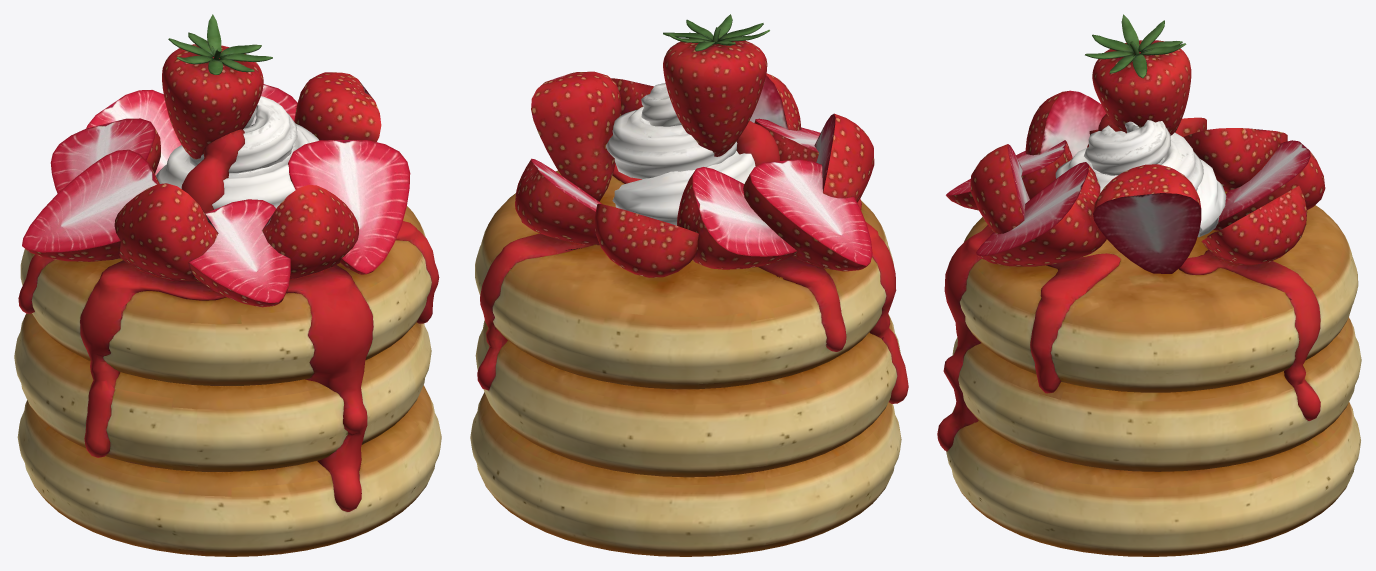
The model's file is pancake--strawberry-fresh.glb.
3 renders of one model, left to right at view 1: azimuth 30°, elevation 25°; view 2: azimuth 150°, elevation 25°; view 3: azimuth 270°, elevation 25°, orthographic. The views are drawn at different scales.
Parts seen in each view (by area): view 1: pancake_strawberry-fresh; view 2: pancake_strawberry-fresh; view 3: pancake_strawberry-fresh.
Boxes of the visible parts, x1,y1,x2,y2 form: pancake_strawberry-fresh: (14, 14, 441, 556); pancake_strawberry-fresh: (470, 14, 908, 556); pancake_strawberry-fresh: (937, 14, 1361, 556).
Size of the model in its own units: 1.05 by 1.2 by 1.05.
Materials: 1 (1 with a texture image).
